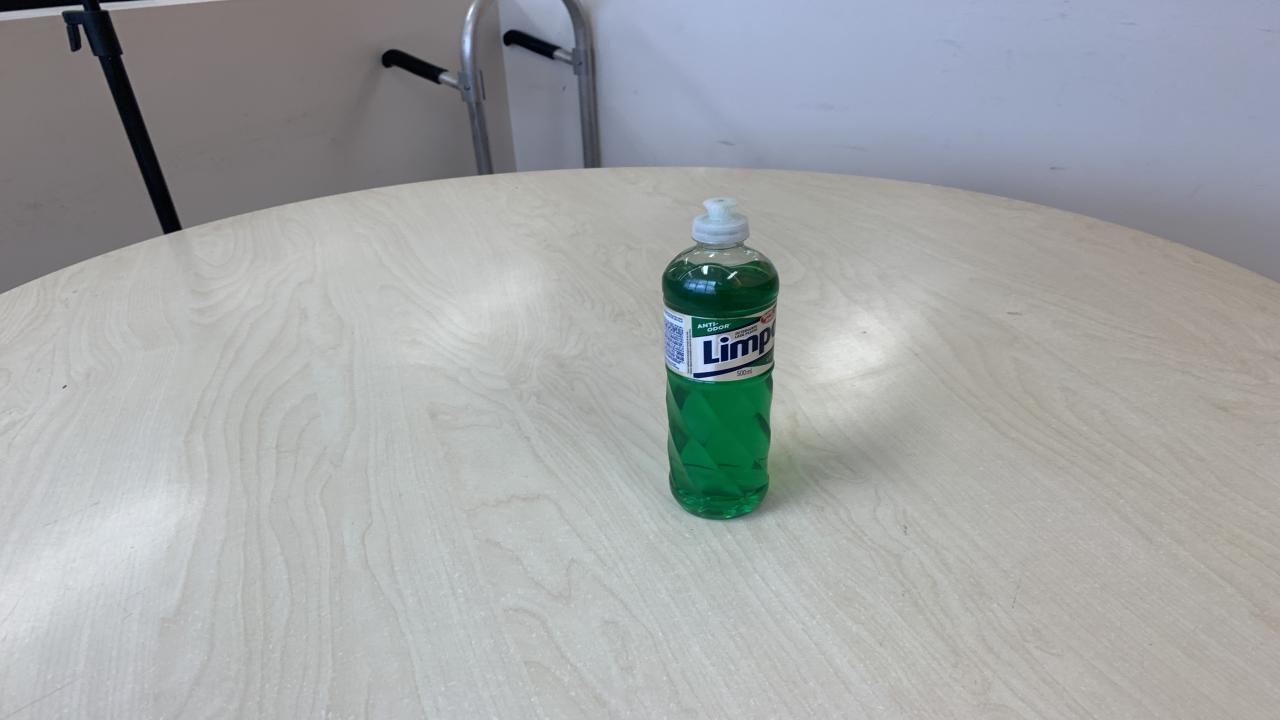Detergent-Cleanup_Items: (659, 199, 780, 523)
